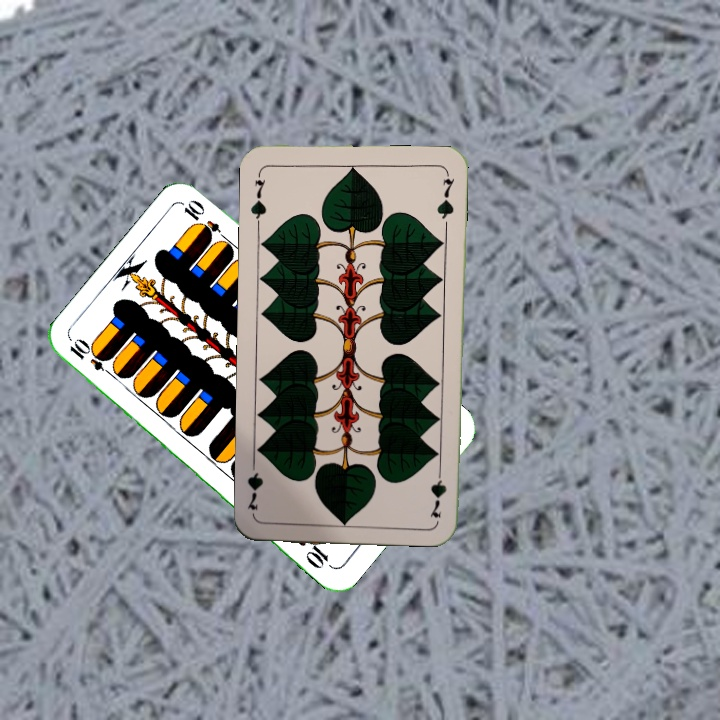E10: (65, 337, 118, 380)
G7: (427, 461, 449, 520), (247, 168, 269, 227)
